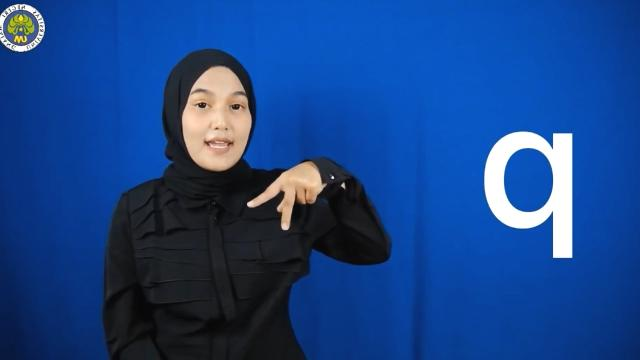P: (242, 155, 334, 233)
